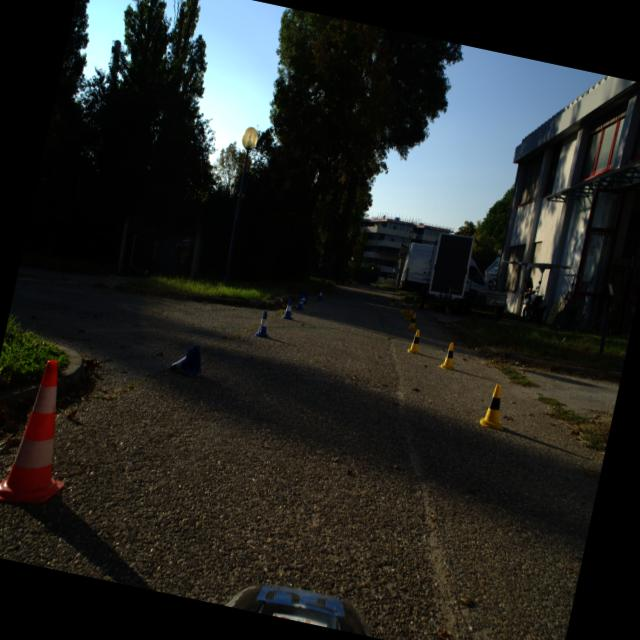blue_cone: (168, 340, 206, 379), (254, 309, 272, 338), (282, 298, 296, 320), (295, 292, 307, 311), (316, 288, 325, 302), (300, 292, 308, 304)
large_orange_cone: (0, 351, 89, 515)
yellow_cone: (477, 382, 512, 431), (438, 339, 462, 371), (406, 328, 425, 356), (406, 312, 420, 331), (404, 308, 414, 322), (398, 300, 408, 314), (388, 296, 396, 306)
